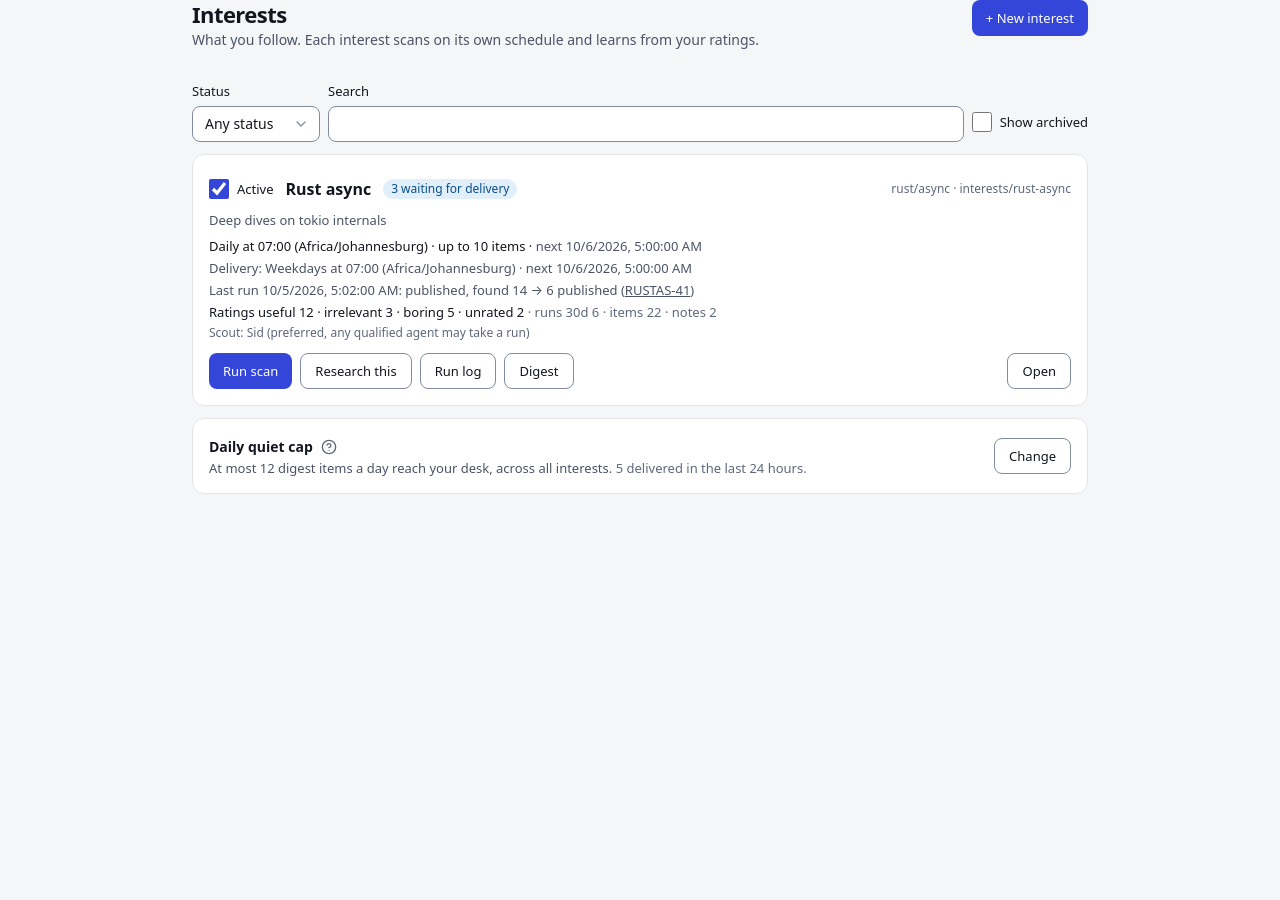
Interests page › Research this opens the dialog and sends a research run with the question and depth
Click the button with test id "interest-research".
click(356, 371)  # box [300,353,412,389]
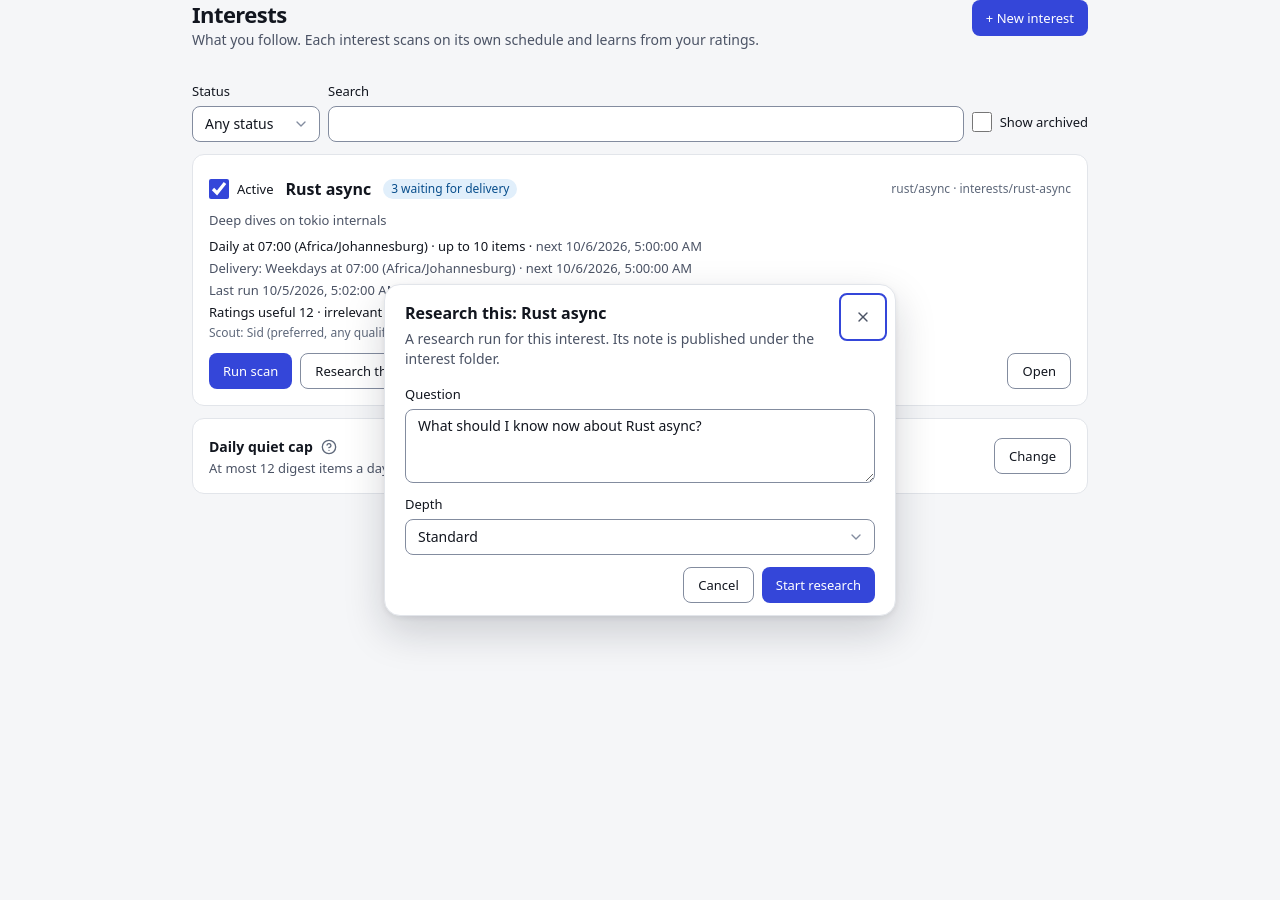
Check: the text box with test id "research-question" holds "What should I know now about Rust async?", box [405,409,875,483]
Select "Deep" in the dropdown with test id "research-depth" at (640, 537), box [405,519,875,555]
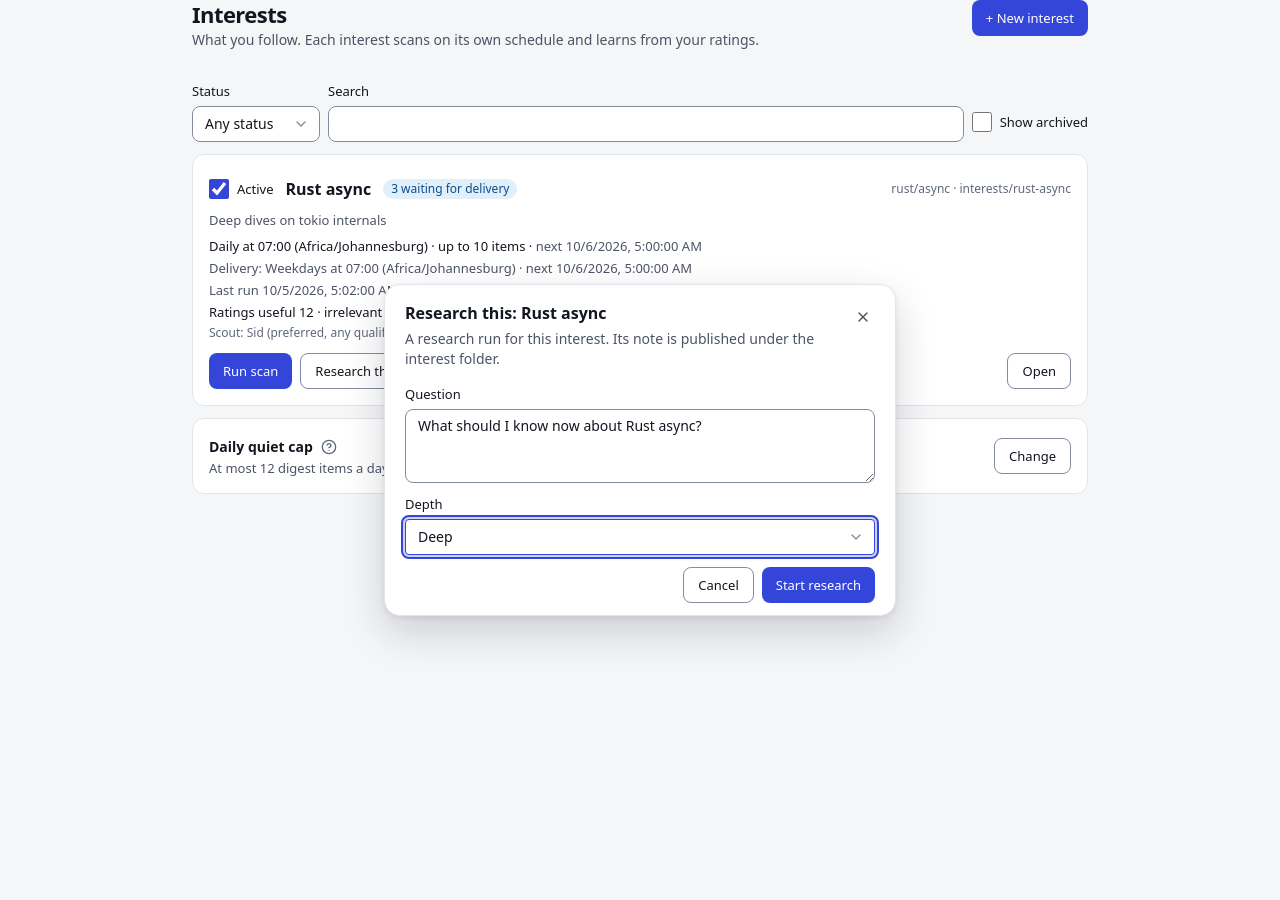
Click the button with test id "research-submit".
click(818, 585)  # box [762,567,875,603]
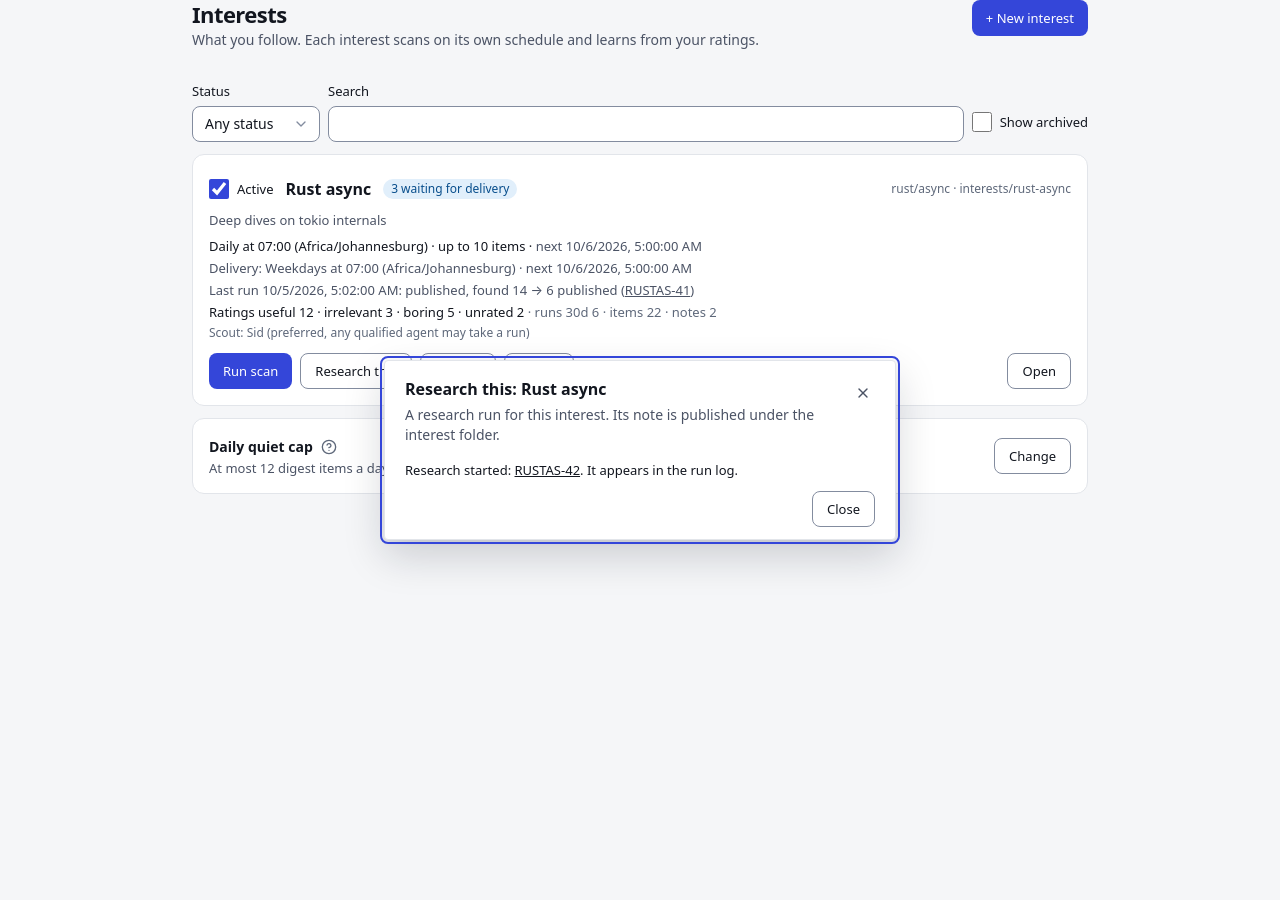
Check: the link with test id "research-card-link" reads "RUSTAS-42", box [514,461,580,479]
